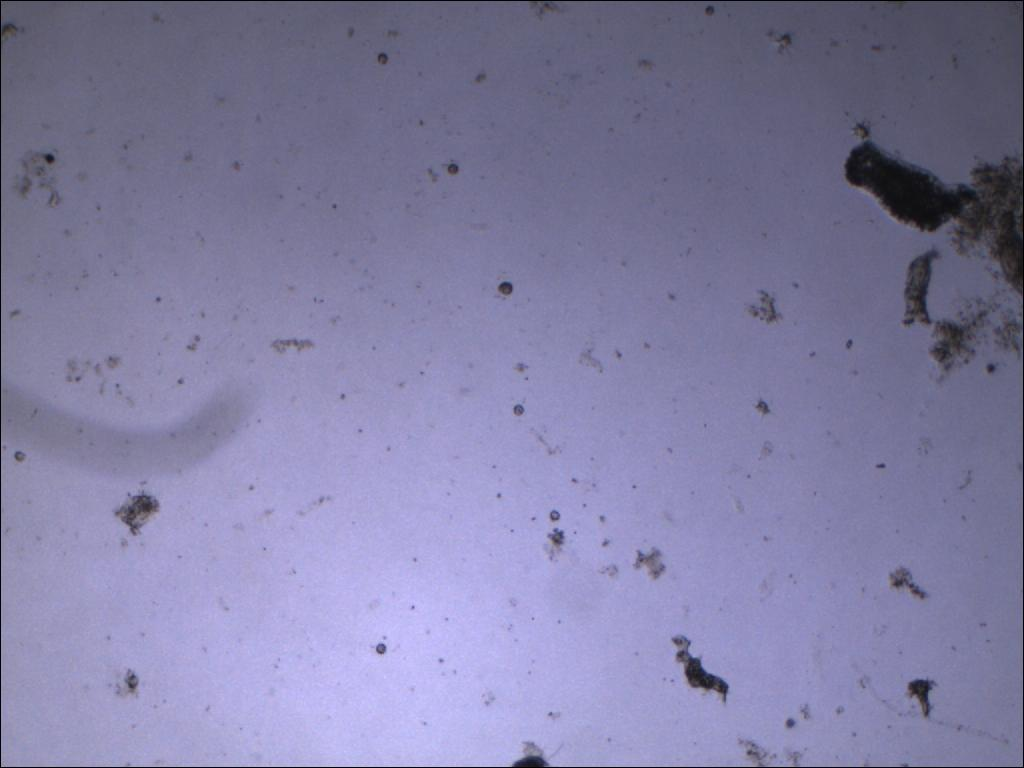amoeba: (838, 133, 979, 238)
